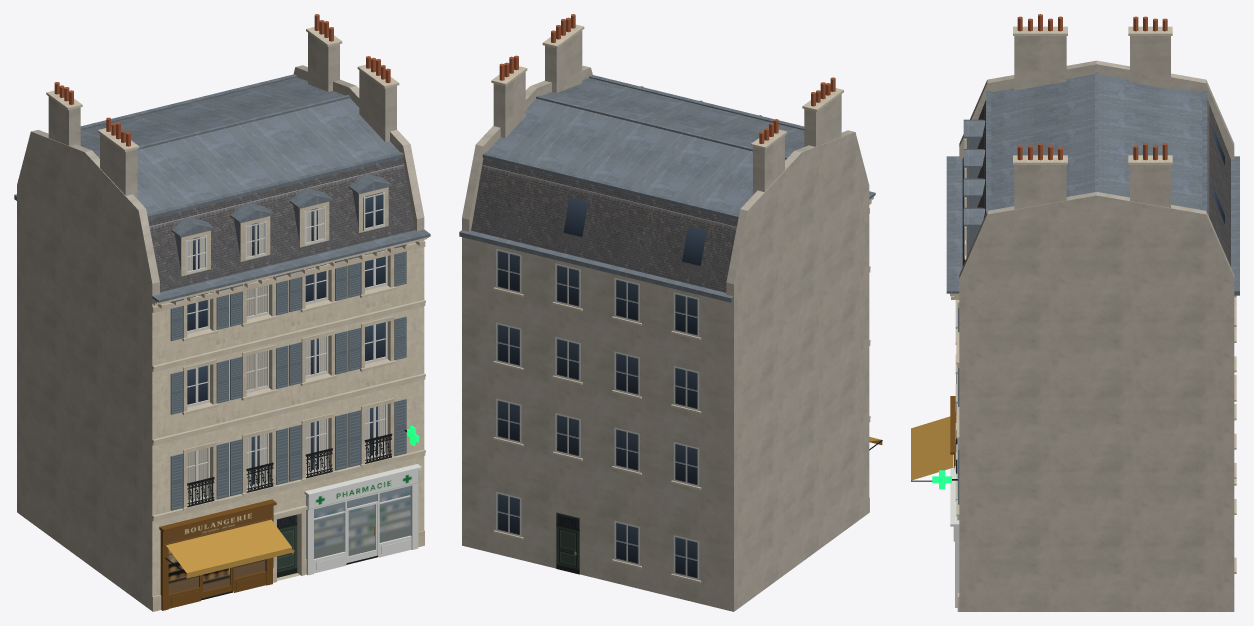
Rendered from immeuble_enduit_boulangerie_pharmacie.glb.
3 views of the same model, side by side, from view 1: azimuth 30°, elevation 25°; view 2: azimuth 150°, elevation 25°; view 3: azimuth 270°, elevation 25° (orthographic).
Parts seen in each view (by area): view 1: immeuble_enduit_boulangerie_pharmacie; view 2: immeuble_enduit_boulangerie_pharmacie; view 3: immeuble_enduit_boulangerie_pharmacie.
Boxes of the visible parts, left/top/right/bottom form: immeuble_enduit_boulangerie_pharmacie: left=14, top=14, right=430, bottom=611; immeuble_enduit_boulangerie_pharmacie: left=459, top=14, right=882, bottom=611; immeuble_enduit_boulangerie_pharmacie: left=911, top=14, right=1239, bottom=611.
Size of the model in its own units: 11.7 by 18.63 by 11.95.
17 materials, 8 textured.
